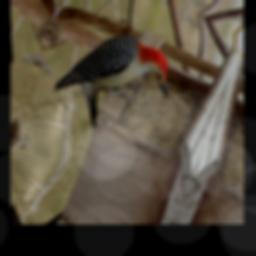Woodpecker: (52, 6, 183, 154)
